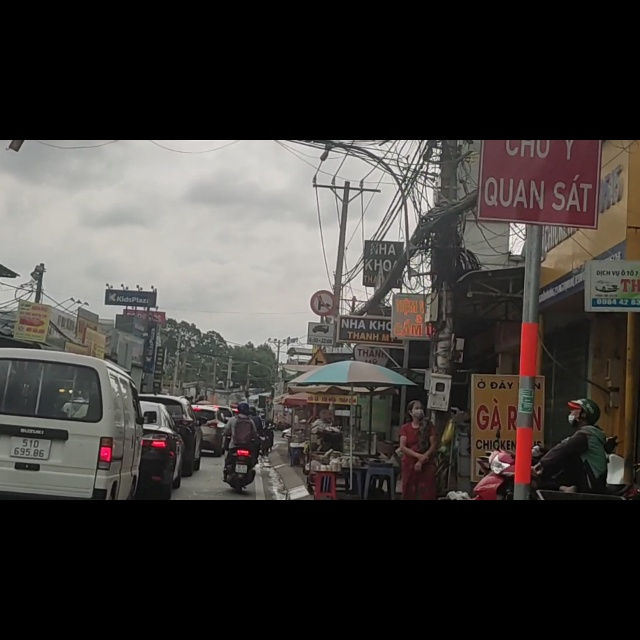bien_cam: (308, 264, 337, 315), (306, 321, 337, 363), (303, 371, 335, 402)
